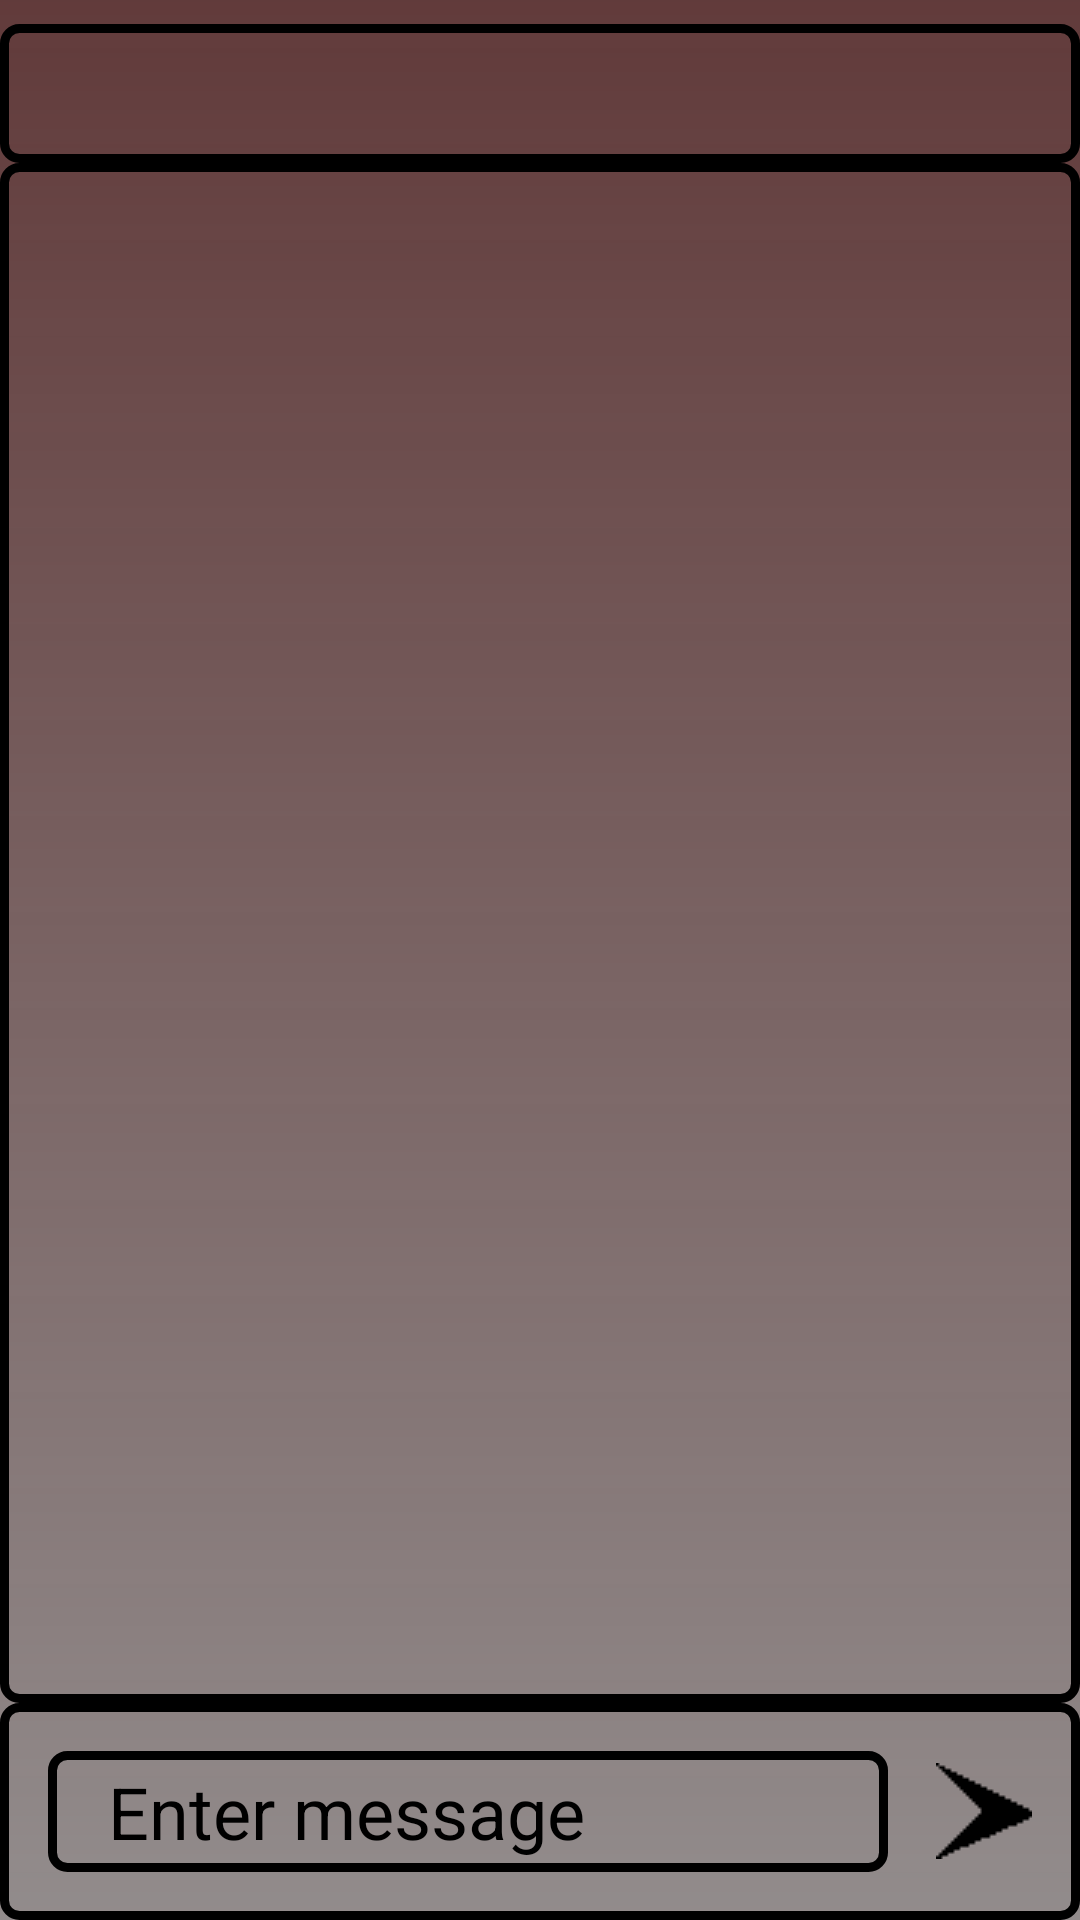

Named icons in this screenshot (1080px×1920px) and their centers, point (x, y):
send: point (984, 1811)
